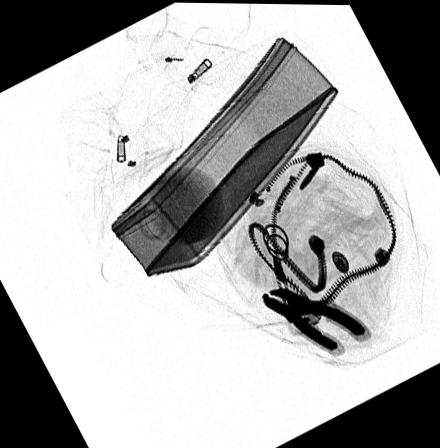Pliers: (262, 285, 368, 352)
